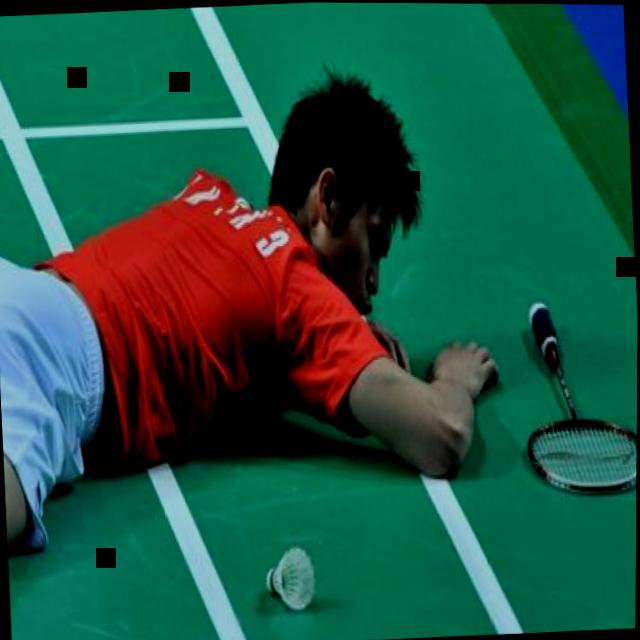Fall-Detected: (0, 1, 510, 581)
